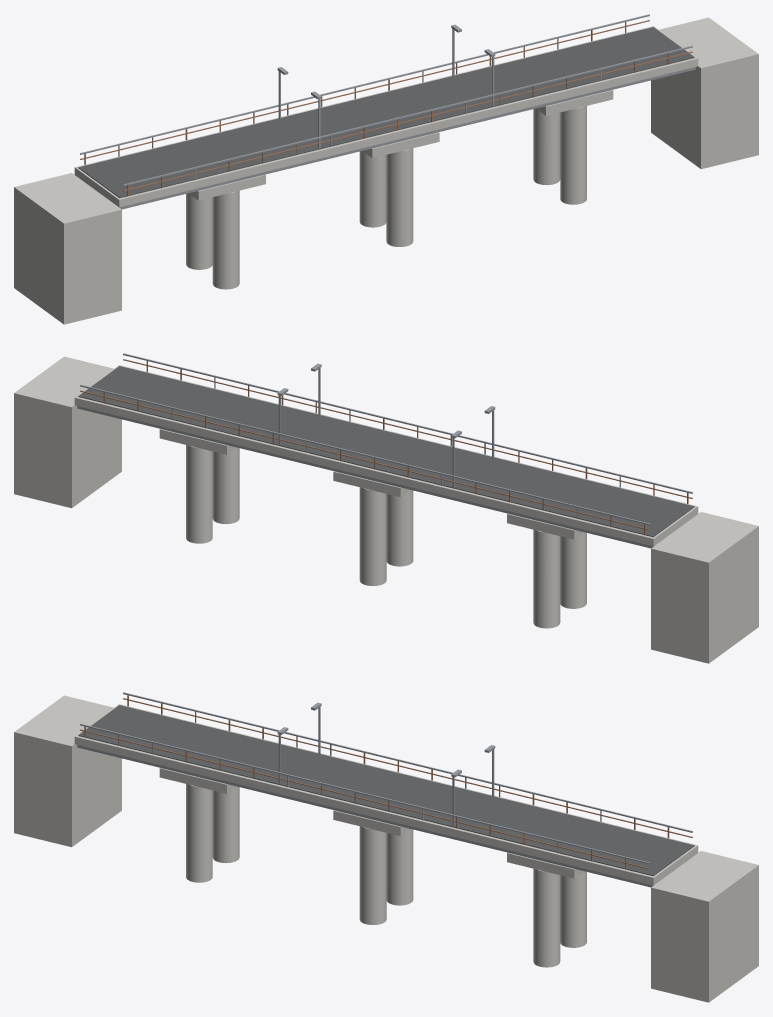
The model's file is debris.glb.
The picture shows the model from 3 angles, top to bottom: view 1: azimuth 30°, elevation 25°; view 2: azimuth 150°, elevation 25°; view 3: azimuth 330°, elevation 25°; orthographic projection.
Parts seen in each view (by area): view 1: piece_134, piece_135, piece_177, piece_198, piece_178, piece_185, piece_203, piece_166, piece_126, piece_133, piece_207, piece_175 (+33 smaller); view 2: piece_134, piece_135, piece_214, piece_181, piece_193, piece_186, piece_126, piece_175, piece_133, piece_166, piece_209, piece_189 (+32 smaller); view 3: piece_134, piece_135, piece_203, piece_177, piece_178, piece_126, piece_166, piece_133, piece_175, piece_168, piece_185, piece_160 (+32 smaller).
Part boxes in pixels (x1=…): piece_134: x1=437, y1=27, x2=694, y2=99; piece_135: x1=201, y1=109, x2=314, y2=163; piece_177: x1=77, y1=247, x2=121, y2=309; piece_198: x1=685, y1=81, x2=734, y2=141; piece_178: x1=53, y1=195, x2=121, y2=236; piece_185: x1=58, y1=222, x2=115, y2=278; piece_203: x1=696, y1=51, x2=758, y2=91; piece_166: x1=359, y1=155, x2=386, y2=227; piece_126: x1=304, y1=104, x2=380, y2=152; piece_133: x1=337, y1=92, x2=422, y2=134; piece_207: x1=688, y1=134, x2=758, y2=169; piece_175: x1=560, y1=134, x2=586, y2=204; piece_134: x1=78, y1=366, x2=294, y2=449; piece_135: x1=416, y1=461, x2=554, y2=507; piece_214: x1=14, y1=392, x2=78, y2=452; piece_181: x1=651, y1=566, x2=723, y2=617; piece_193: x1=651, y1=547, x2=728, y2=581; piece_186: x1=673, y1=588, x2=725, y2=663; piece_126: x1=394, y1=442, x2=509, y2=479; piece_175: x1=212, y1=452, x2=239, y2=524; piece_133: x1=345, y1=432, x2=432, y2=473; piece_166: x1=359, y1=510, x2=386, y2=585; piece_209: x1=68, y1=433, x2=112, y2=503; piece_189: x1=651, y1=611, x2=736, y2=663; piece_134: x1=478, y1=792, x2=694, y2=876; piece_135: x1=218, y1=735, x2=355, y2=780; piece_203: x1=651, y1=887, x2=720, y2=932; piece_177: x1=27, y1=778, x2=72, y2=846; piece_178: x1=14, y1=722, x2=87, y2=770; piece_126: x1=263, y1=762, x2=377, y2=799; piece_166: x1=386, y1=833, x2=413, y2=905; piece_133: x1=339, y1=768, x2=427, y2=809; piece_175: x1=533, y1=895, x2=560, y2=967; piece_168: x1=359, y1=859, x2=386, y2=924; piece_185: x1=14, y1=733, x2=65, y2=787; piece_160: x1=212, y1=800, x2=239, y2=863.
Size of the model in its own units: 72 by 16.91 by 9.
